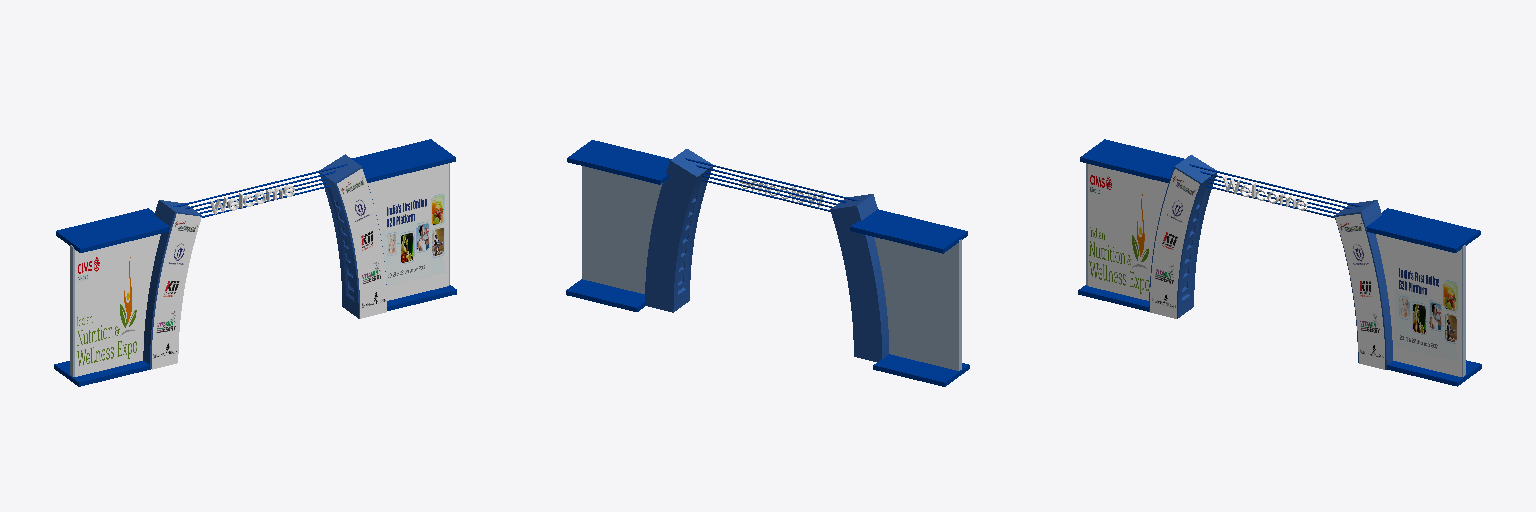
3 renders of one model, left to right at view 1: azimuth 30°, elevation 25°; view 2: azimuth 150°, elevation 25°; view 3: azimuth 330°, elevation 25°, orthographic.
Visible parts, largest first — view 1: Plane01, Plane02, Plane04, Plane03, Box08, Box04, Box07, Box01, Box02, Text01, Box05, Box03; view 2: Box03, Box06, Box08, Box01, Box04, Box07, Box02, Box05; view 3: Plane02, Plane01, Plane03, Plane04, Box01, Box07, Box04, Box08, Box05, Box02, Text01.
Boxes of the visible parts, box(x1,y1,x2,y2) form: Plane01: box(75, 234, 160, 376); Plane02: box(368, 163, 448, 300); Plane04: box(337, 169, 386, 318); Plane03: box(152, 213, 201, 369); Box08: box(319, 154, 386, 318); Box04: box(56, 208, 169, 252); Box07: box(351, 139, 455, 182); Box01: box(143, 200, 201, 369); Box02: box(54, 361, 149, 386); Text01: box(210, 185, 294, 214); Box05: box(387, 285, 456, 310); Box03: box(70, 245, 74, 376); Box03: box(874, 237, 961, 370); Box06: box(582, 166, 662, 293); Box08: box(645, 149, 712, 312); Box01: box(830, 194, 888, 361); Box04: box(850, 209, 967, 253); Box07: box(567, 140, 671, 184); Box02: box(873, 354, 969, 386); Box05: box(566, 279, 645, 311); Plane02: box(1376, 234, 1461, 376); Plane01: box(1088, 164, 1168, 300); Plane03: box(1150, 169, 1199, 318); Plane04: box(1335, 214, 1384, 369); Box01: box(1149, 155, 1216, 318); Box07: box(1366, 208, 1480, 252); Box04: box(1080, 139, 1183, 182); Box08: box(1334, 200, 1392, 369); Box05: box(1387, 360, 1481, 386); Box02: box(1078, 285, 1148, 311); Text01: box(1223, 176, 1307, 210).
Bounding box in the file's own units: 49.03 × 18.77 × 5.79.
7 materials, 3 textured.